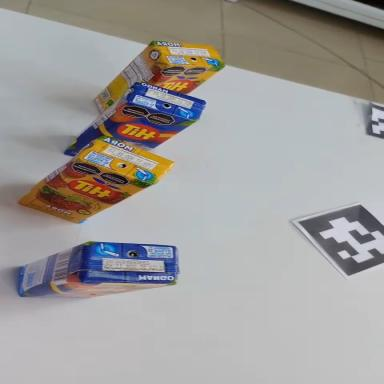HIT-MANGO: (52, 56, 212, 190), (16, 238, 180, 299)
HIT-MORA: (9, 110, 178, 244), (85, 26, 228, 113)
cara_F: (57, 77, 198, 191), (11, 133, 153, 245), (21, 280, 176, 302), (148, 64, 224, 96)
